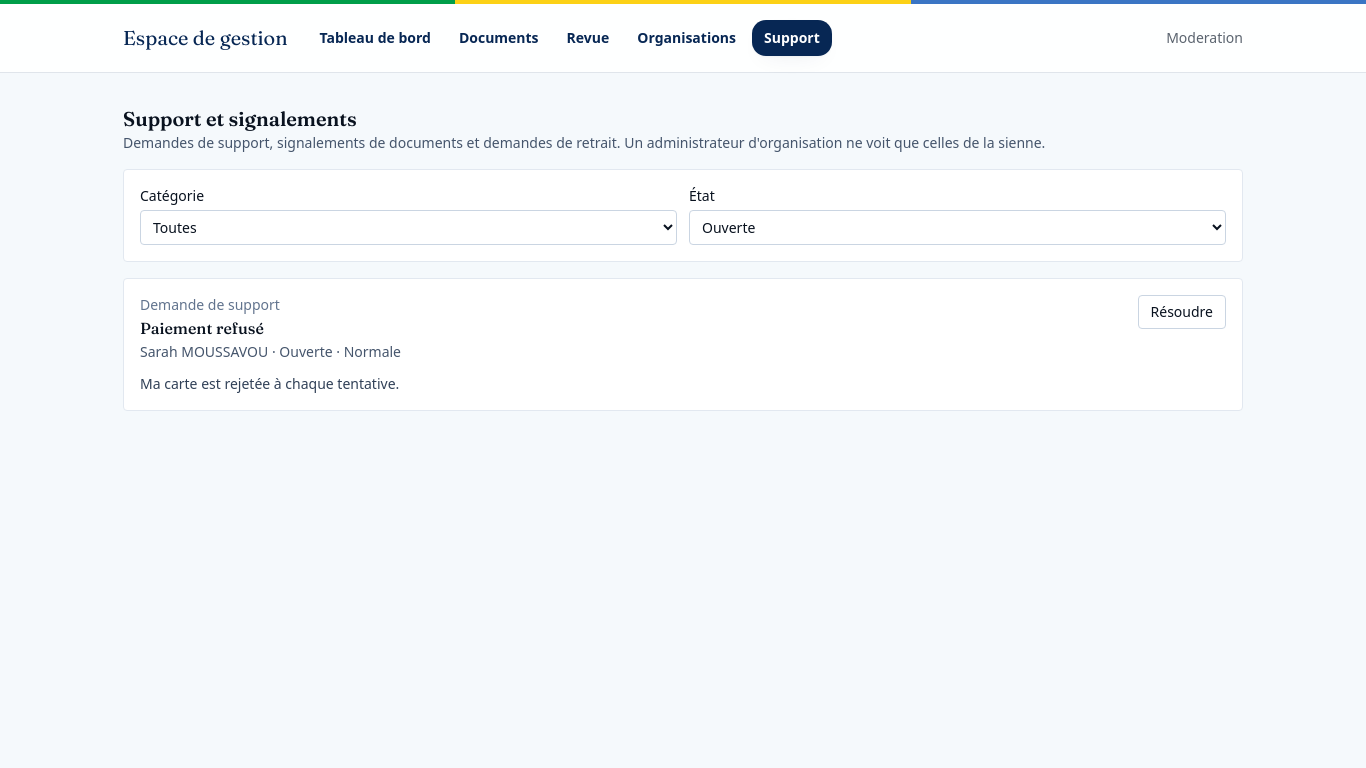
it: file de support › rend le refus serveur d'une résolution
This screenshot has width=1366, height=768.
Click the button "Résoudre": click(1182, 312) [1138, 295, 1226, 329]
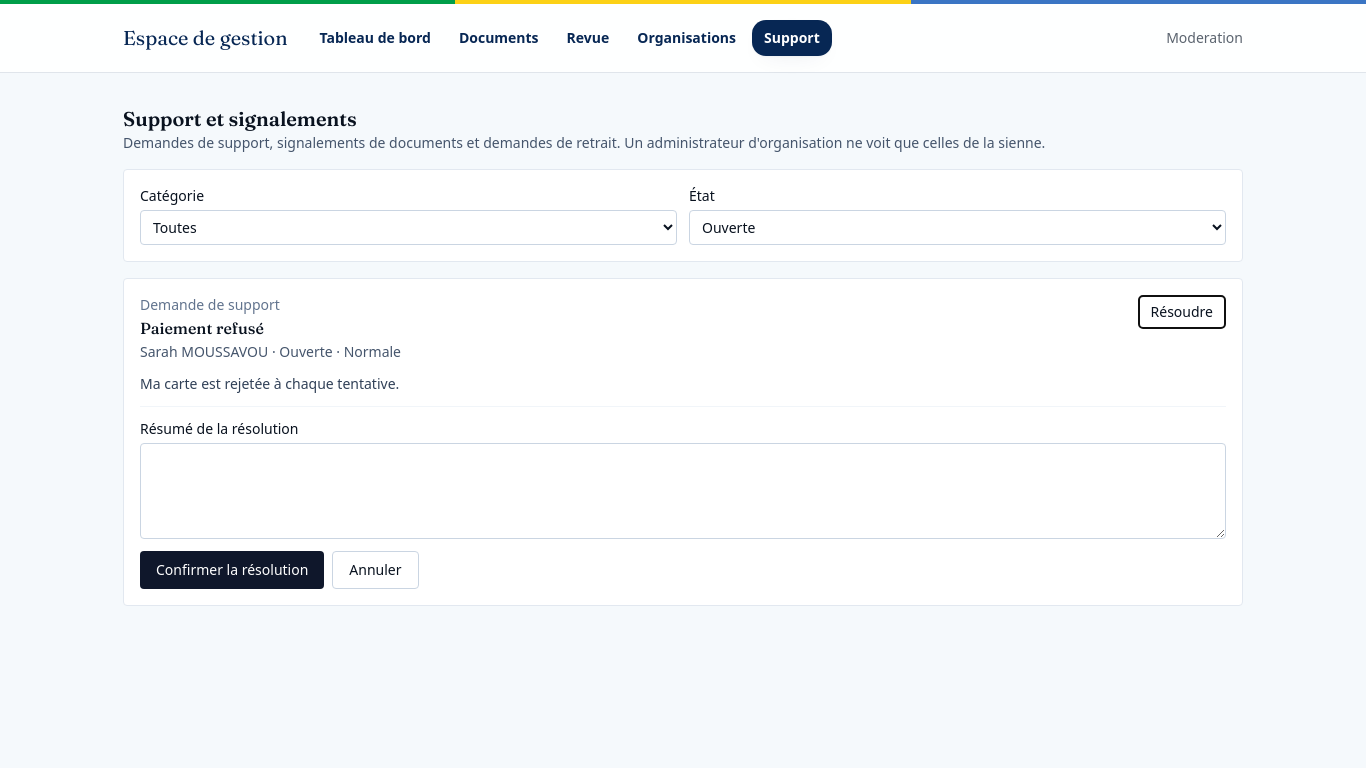
In the text box labelled "Résumé de la résolution": (683, 491) [140, 443, 1226, 539], type "Traité."
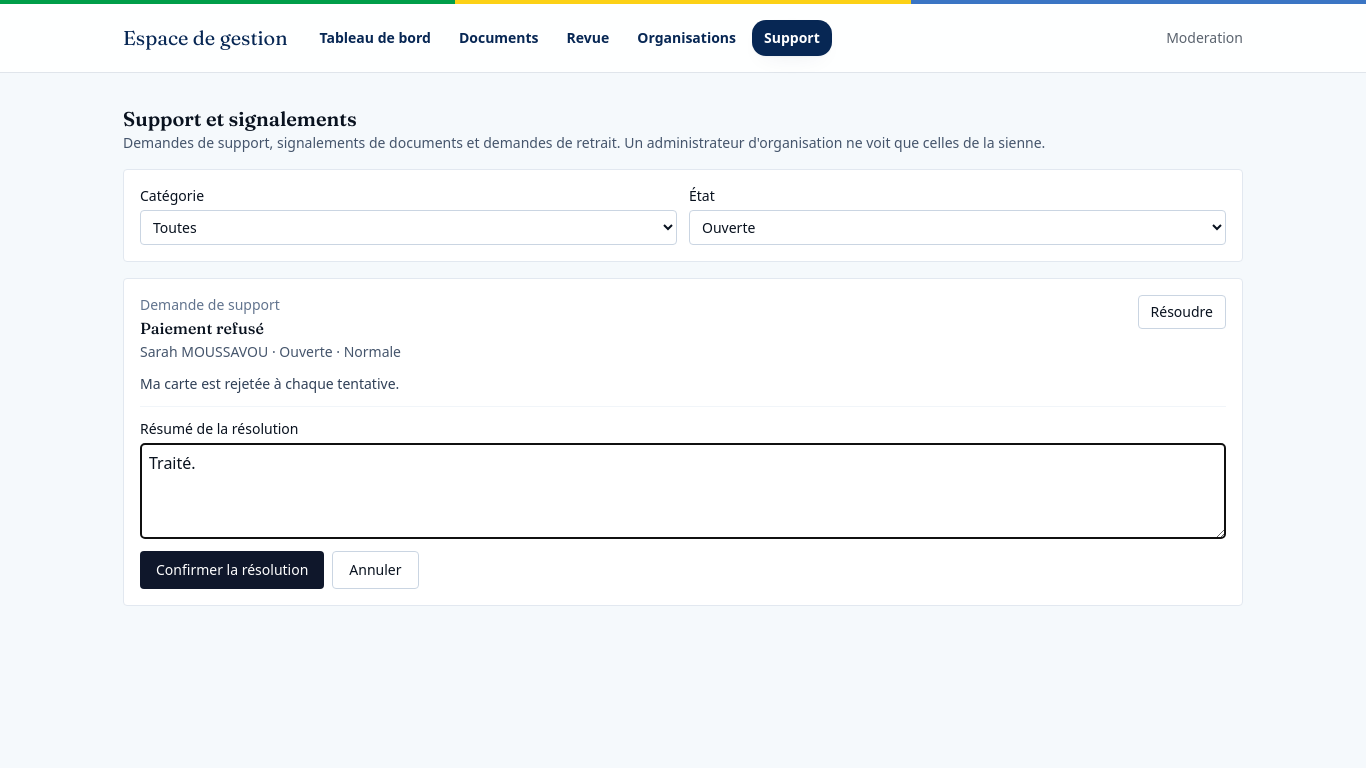
Click the button "Confirmer la résolution": click(232, 570) [140, 551, 324, 589]
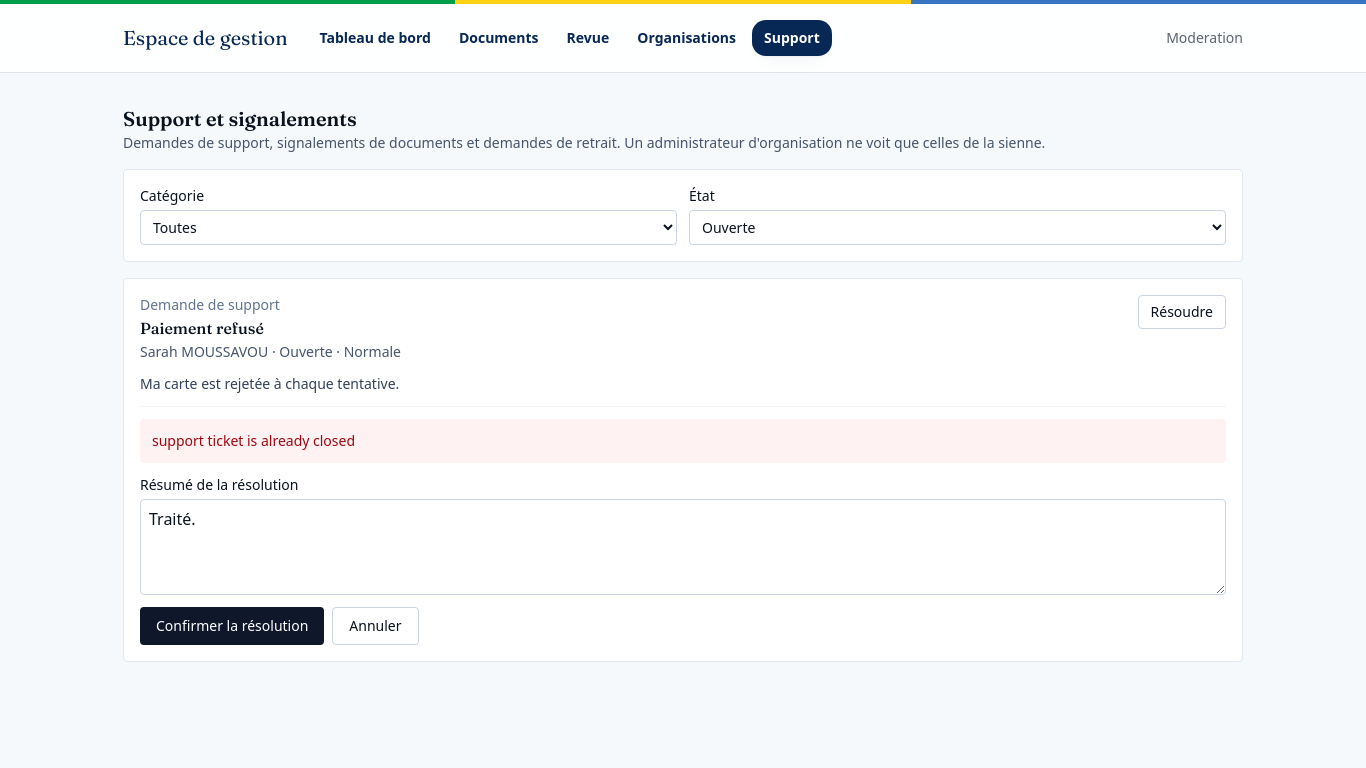
Expected: the message shows "already closed", [152, 431, 355, 450]
